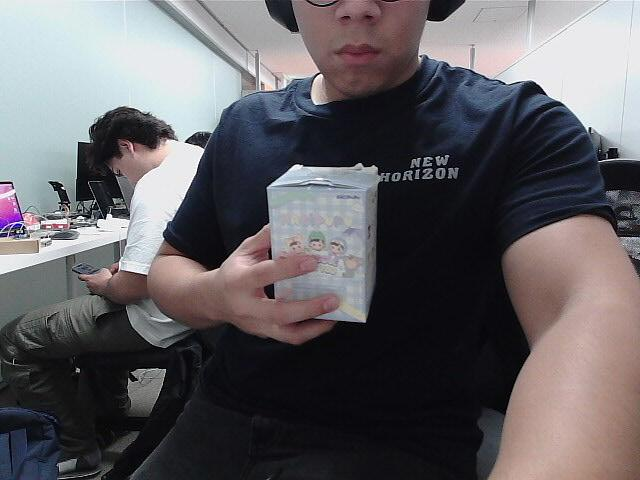Blind_box: (259, 156, 385, 328)
